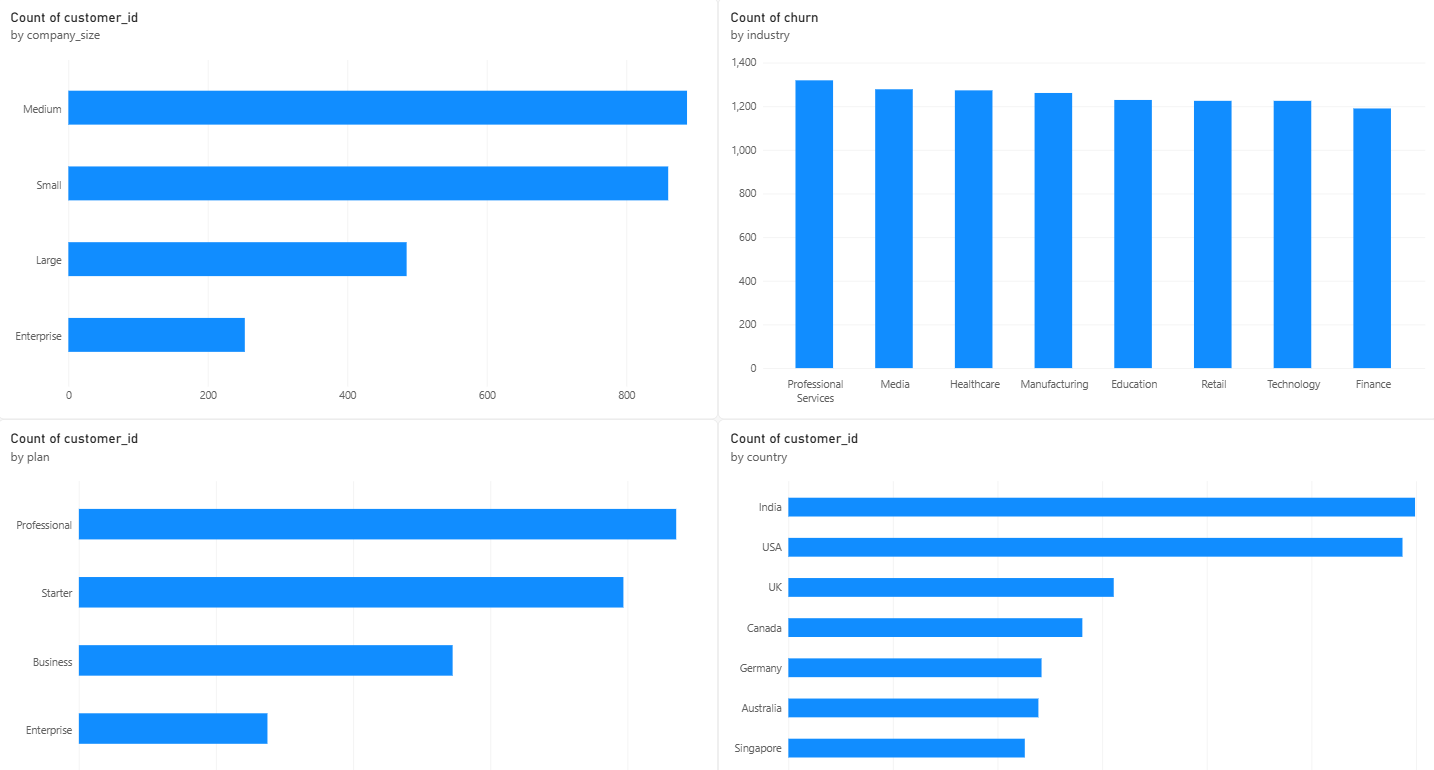

The page's visual inventory and layout, read from the dashboard file:
{"tool":"powerbi","page":{"name":"Churn Drivers","canvas":[1920,1080],"ordinal":2},"visuals":[{"type":"clusteredColumnChart","fields":{"Category":["churn_analysis.industry"],"Y":["CountNonNull(churn_analysis.churn)"]},"box":[960,0,960,561.7],"z":0},{"type":"clusteredBarChart","fields":{"Category":["churn_analysis.plan"],"Y":["CountNonNull(churn_analysis.customer_id)"]},"box":[0,562,960,518],"z":1000},{"type":"clusteredBarChart","fields":{"Category":["churn_analysis.company_size"],"Y":["CountNonNull(churn_analysis.customer_id)"]},"box":[0,0,960,561.7],"z":2000},{"type":"clusteredBarChart","fields":{"Category":["churn_analysis.country"],"Y":["CountNonNull(churn_analysis.customer_id)"]},"box":[960,561.7,960,518.3],"z":3000}]}

Visuals, with their boxes on the page's 1920x1080 design canvas (x1, y1, x2, y2). These are canvas units, not pixel positions in the 1434x770 screenshot, which may show the page scaled, cropped or inside an application window:
clusteredColumnChart - churn_analysis.industry x CountNonNull(churn_analysis.churn): [960,0,1920,562]
clusteredBarChart - churn_analysis.plan x CountNonNull(churn_analysis.customer_id): [0,562,960,1080]
clusteredBarChart - churn_analysis.company_size x CountNonNull(churn_analysis.customer_id): [0,0,960,562]
clusteredBarChart - churn_analysis.country x CountNonNull(churn_analysis.customer_id): [960,562,1920,1080]
